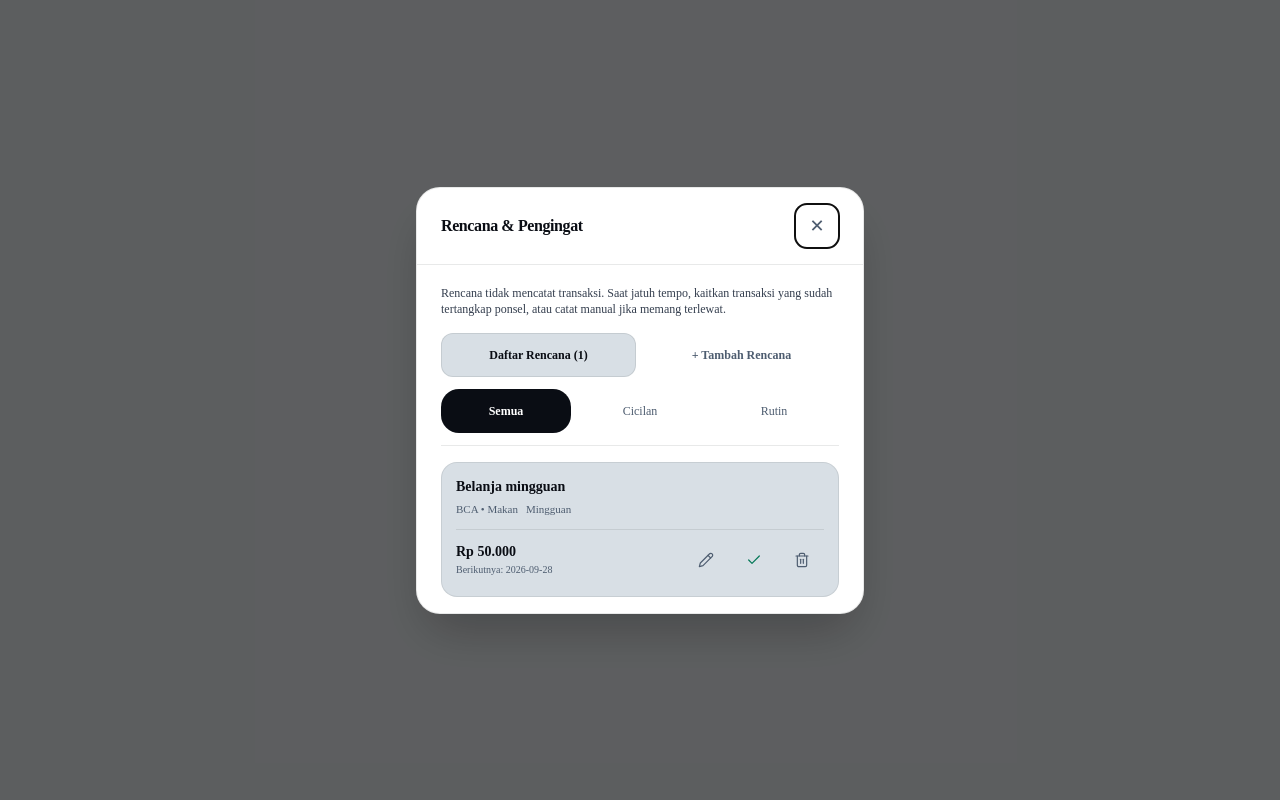
Test: RecurringRulesModal › explains a refused delete of a plan with history
Click the button named "Hapus rencana Belanja mingguan" at (802, 560), box 780,538 -> 824,582
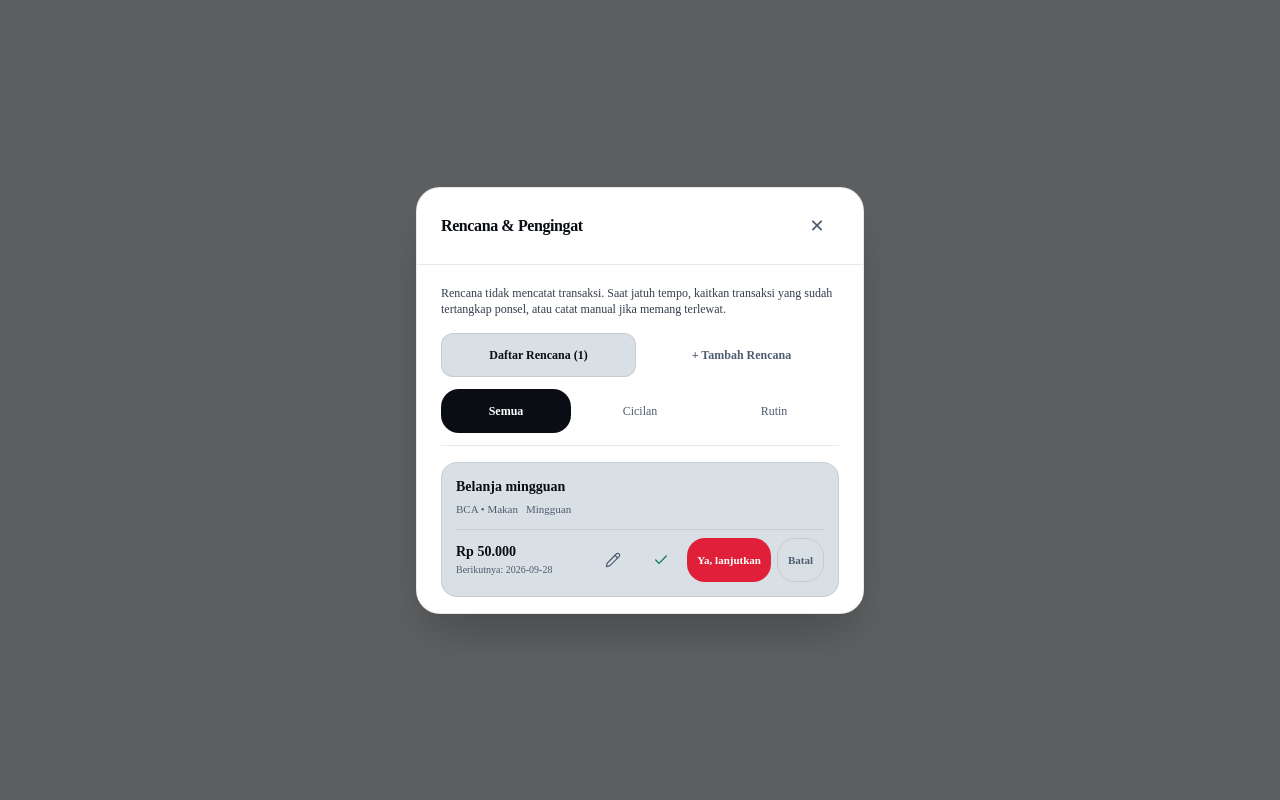
Click the button "Ya, lanjutkan" at (729, 560), box 687,538 -> 771,582
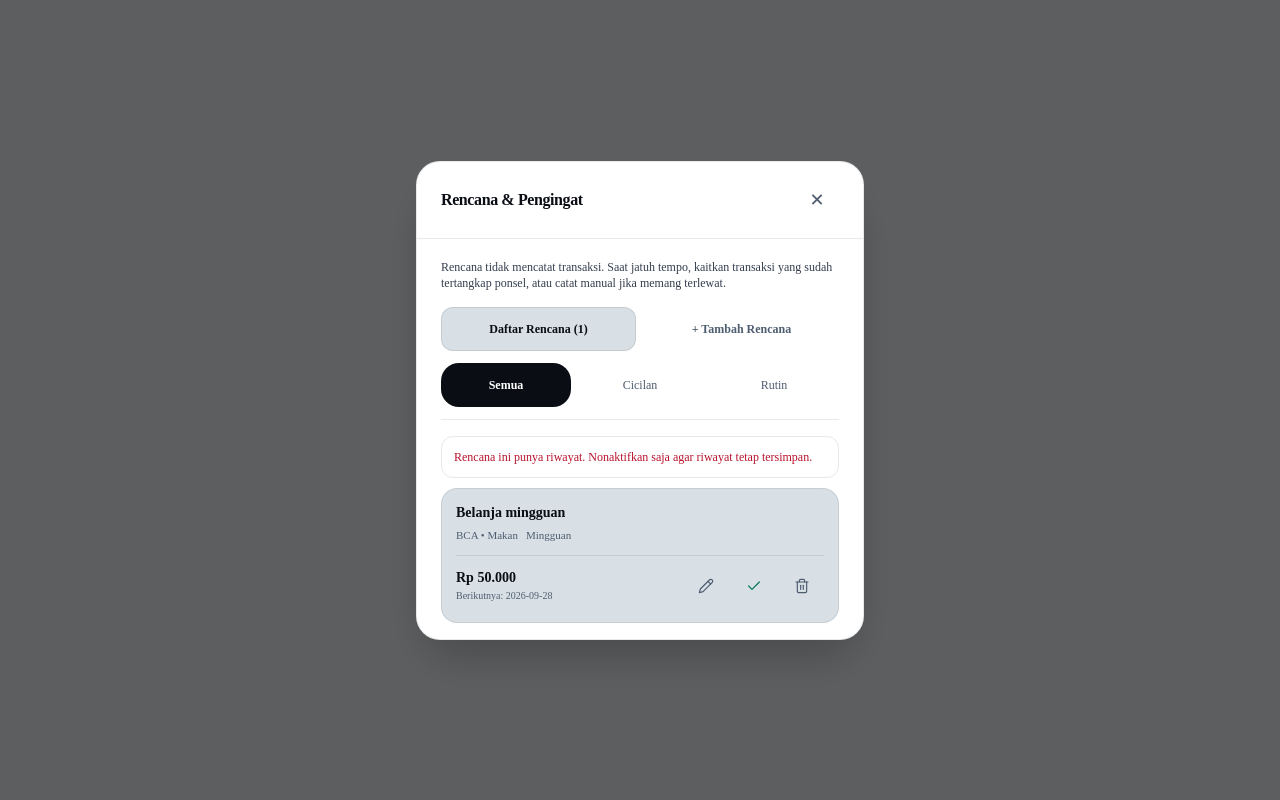
Check: the text "Rencana ini punya riwayat. Nonaktifkan saja agar riwayat tetap tersimpan." is shown, box 441,436 -> 839,478
